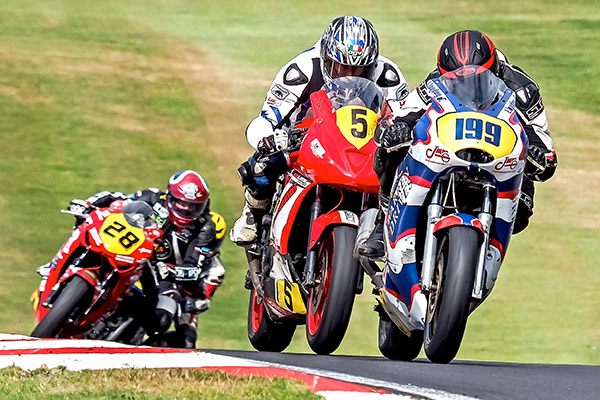helmet: (430, 25, 524, 353), (301, 12, 413, 274), (155, 160, 217, 276)
